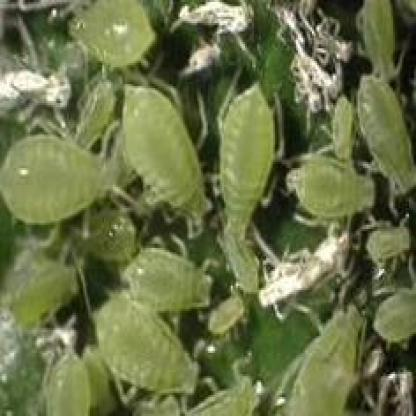aphid: (90, 283, 210, 406), (2, 119, 128, 224), (126, 84, 213, 232), (279, 297, 379, 416), (216, 83, 282, 243), (122, 234, 218, 332), (284, 142, 380, 235), (354, 75, 416, 200), (9, 247, 83, 334), (66, 0, 160, 65), (40, 341, 113, 416), (184, 356, 270, 416), (61, 72, 128, 147), (355, 0, 409, 90), (362, 207, 416, 277), (371, 278, 416, 350), (322, 91, 364, 167), (223, 236, 267, 293), (209, 290, 254, 338)
